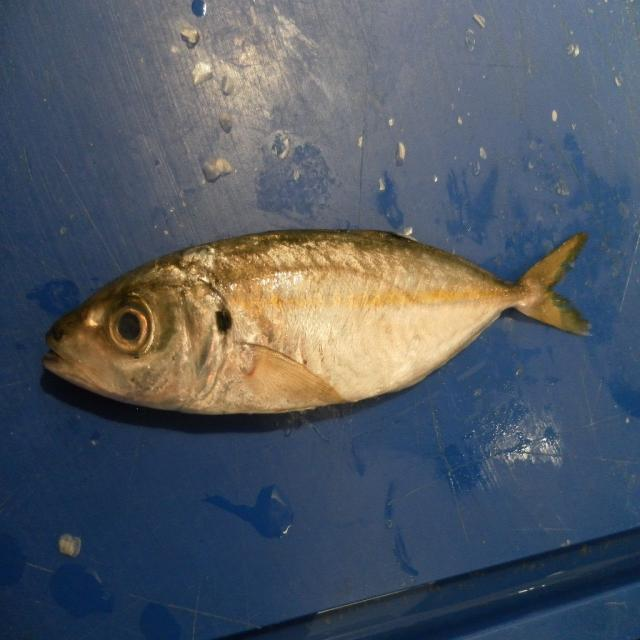Hourse-Mackerel-istavrit-: (41, 230, 592, 418)
